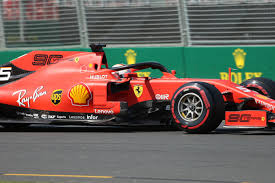f1_car: (1, 43, 275, 146)
